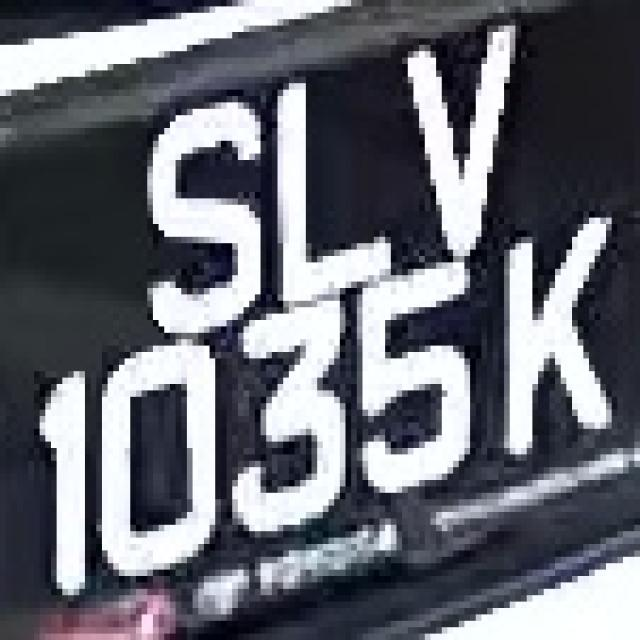0: (96, 333, 249, 576)
1: (28, 364, 108, 602)
3: (226, 294, 362, 576)
5: (340, 256, 476, 506)
K: (487, 212, 629, 454)
L: (260, 70, 408, 314)
S: (114, 109, 278, 333)
V: (380, 13, 538, 262)
